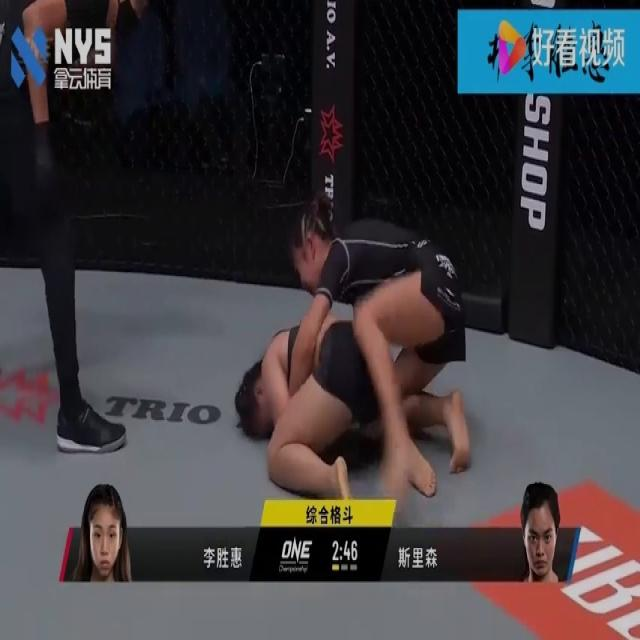fight: (226, 194, 480, 526)
non-fight: (0, 0, 152, 464)
